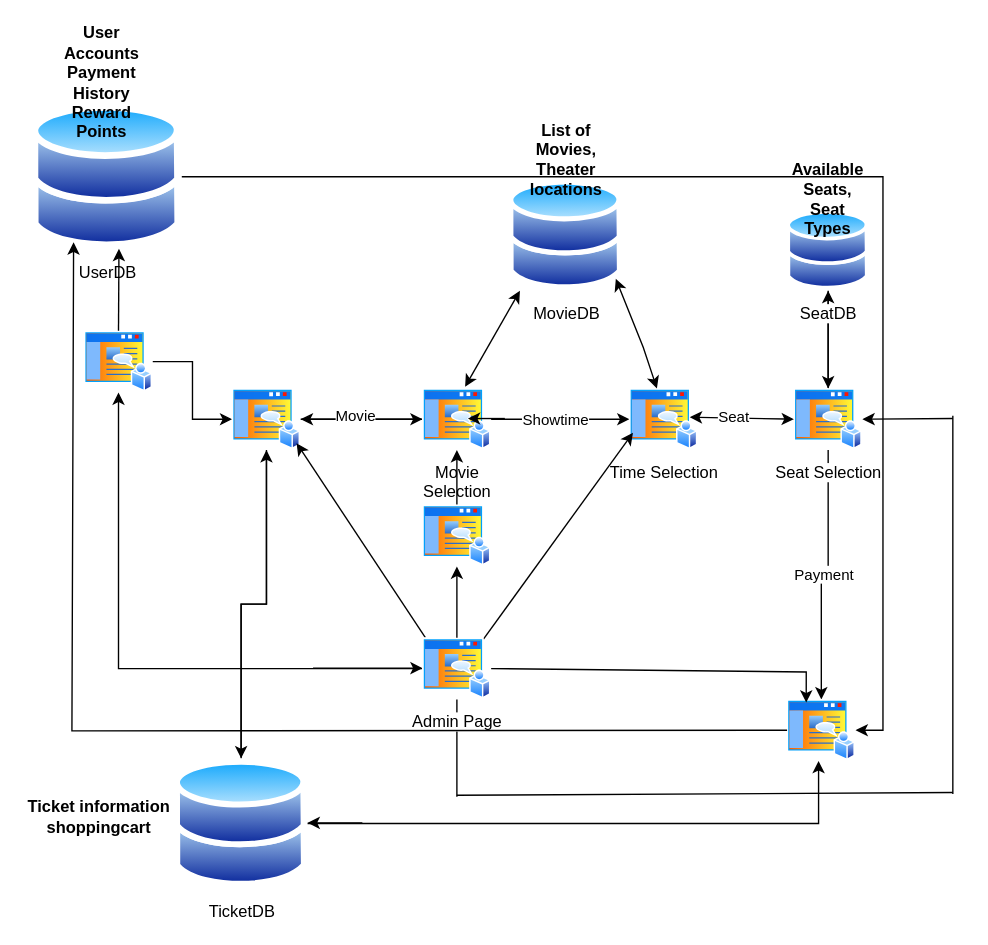
The diagram is 988 pixels wide and 945 high, and some of its shapes have lost their labels. Here are the shapes that lost their labels. From the top down, the centre of each, then its label:
pixel 118 361: Login Page
pixel 266 418: Customer Page
pixel 456 535: Theater
pixel 820 729: Pay Page
